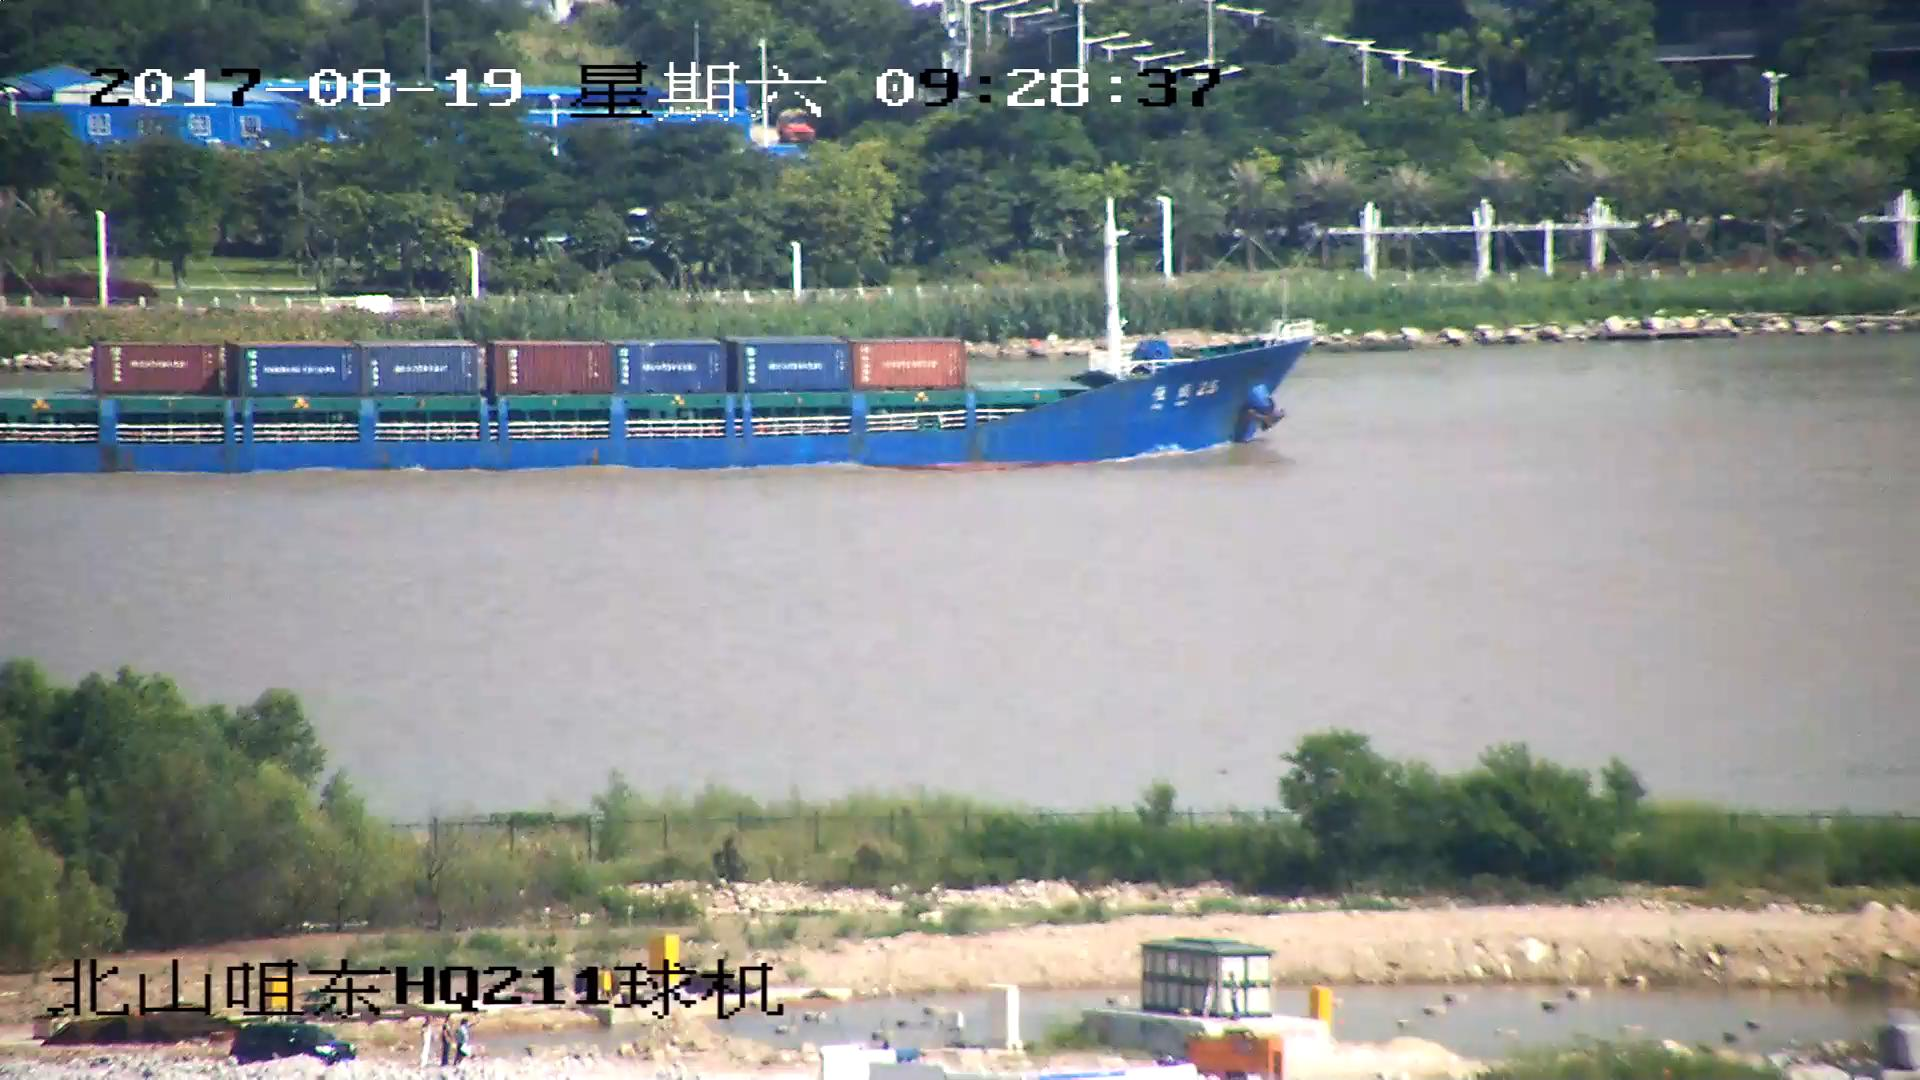general cargo ship: (1, 200, 1308, 467)
